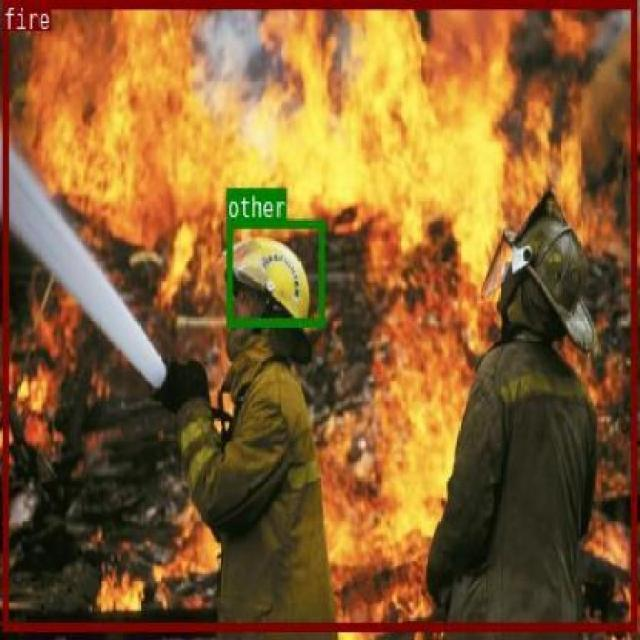Fire: (0, 0, 638, 618)
Smoke: (193, 2, 307, 172)
